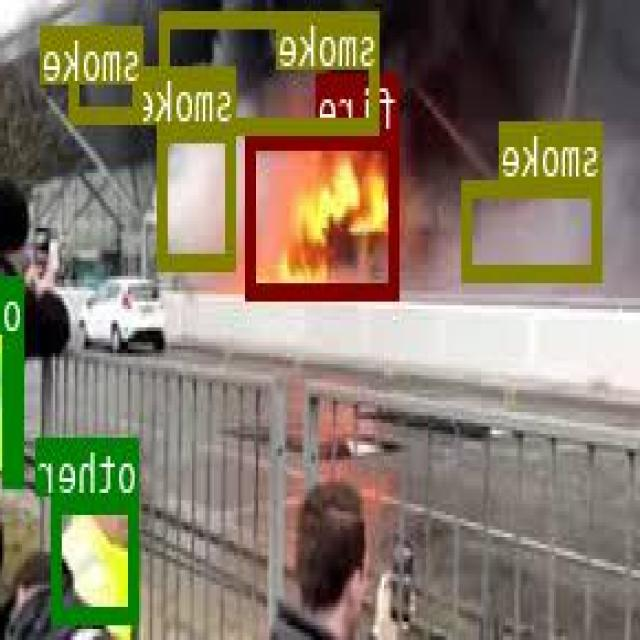fire: (248, 129, 401, 298)
other: (53, 496, 139, 622), (4, 274, 27, 483)
smoke: (162, 11, 380, 130), (466, 180, 604, 276), (161, 121, 236, 266), (71, 24, 143, 120)
